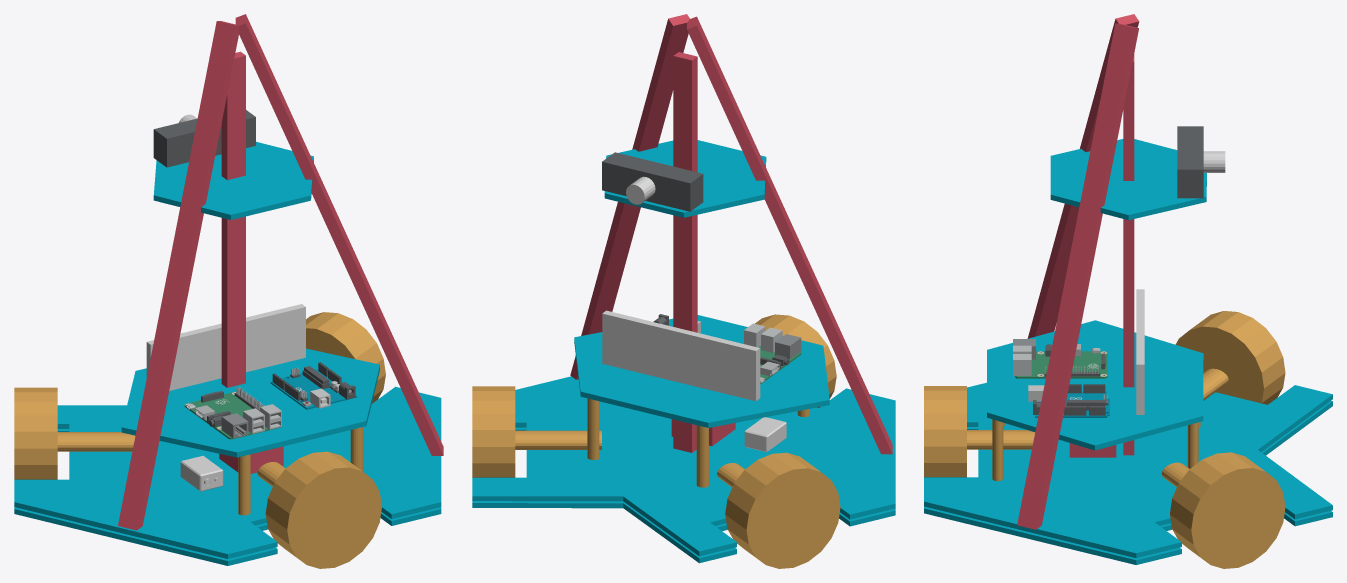
The model's file is omnidirectional.glb.
The picture shows the model from 3 angles, left to right: view 1: azimuth 30°, elevation 25°; view 2: azimuth 150°, elevation 25°; view 3: azimuth 270°, elevation 25°; orthographic projection.
Visible parts, largest first — view 1: Cube; view 2: Cube; view 3: Cube.
Part boxes in pixels (x1,y1,x2,y2): Cube: (14,14,443,568); Cube: (472,14,895,568); Cube: (924,14,1332,568).
Size of the model in its own units: 92.6 by 97.88 by 77.29.
